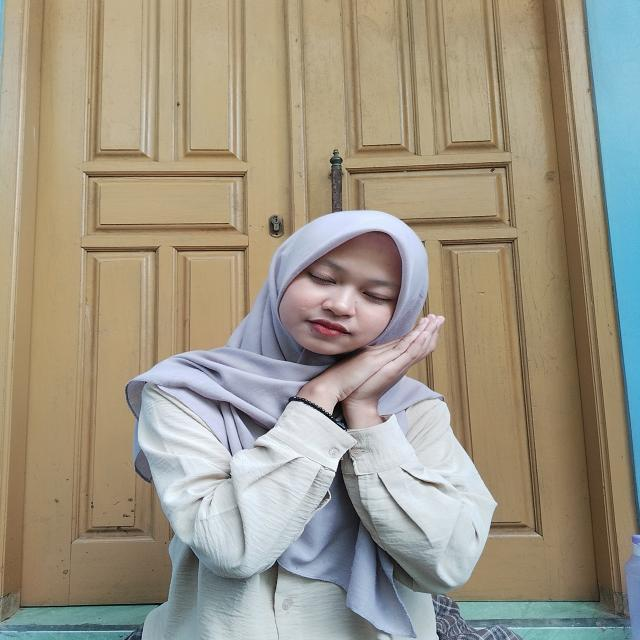tidur: (256, 306, 459, 458)
